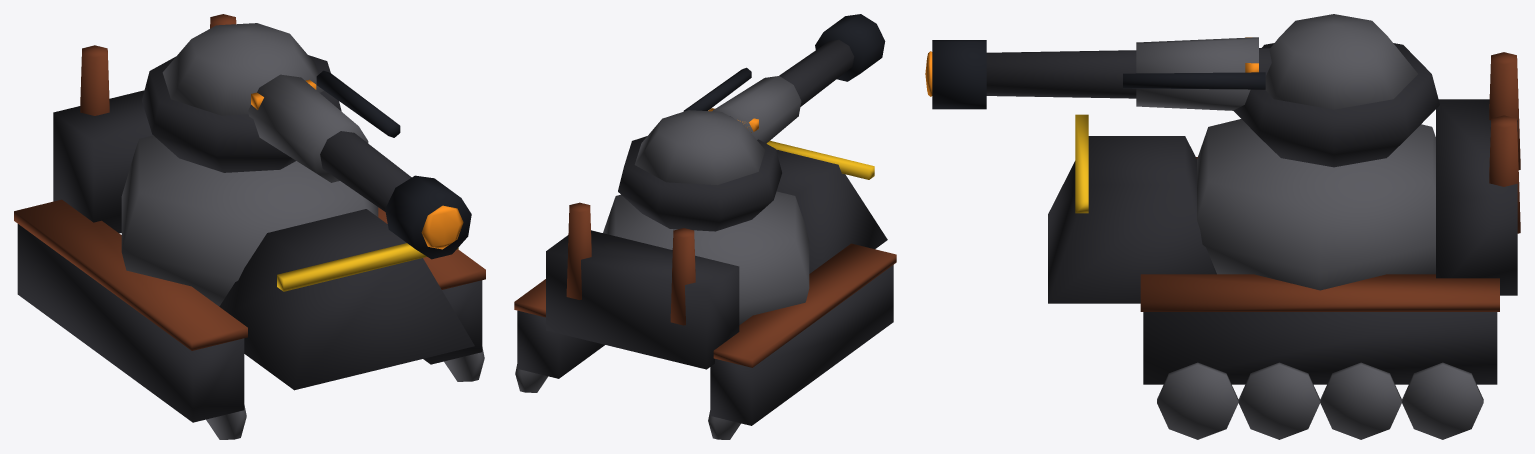
Rendered from unit_mecha_siege.obj.
The picture shows the model from 3 angles, left to right: view 1: azimuth 30°, elevation 25°; view 2: azimuth 150°, elevation 25°; view 3: azimuth 270°, elevation 25°; orthographic projection. The views are drawn at different scales.
Parts seen in each view (by area): view 1: HullNose, Hull, Track_-1, TrackTrim_-1, TurretBody, HullRear, TurretBase, CannonSleeve, MuzzleBrake, MainCannon, HazardStripe, Track_1 (+6 smaller); view 2: HullRear, Hull, Track_-1, TurretBase, TurretBody, TrackTrim_-1, HullNose, Track_1, CannonSleeve, MainCannon, MuzzleBrake, Exhaust_-1 (+6 smaller); view 3: Hull, Track_1, HullNose, HullRear, TrackTrim_1, TurretBody, TurretBase, MainCannon, CannonSleeve, Wheel_1_1, Wheel_1_0, Wheel_1_2 (+6 smaller).
Part boxes in pixels (x1,y1,x2,y2): HullNose: [219, 209, 474, 390]; Hull: [121, 135, 378, 306]; Track_-1: [17, 224, 244, 422]; TrackTrim_-1: [14, 199, 247, 350]; TurretBody: [162, 23, 323, 115]; HullRear: [53, 90, 152, 233]; TurretBase: [142, 55, 341, 172]; CannonSleeve: [248, 74, 368, 182]; MuzzleBrake: [385, 175, 471, 259]; MainCannon: [320, 131, 411, 211]; HazardStripe: [277, 243, 458, 291]; Track_1: [423, 280, 482, 364]; HullRear: [546, 230, 739, 369]; Hull: [603, 191, 809, 324]; Track_-1: [710, 265, 893, 425]; TurretBase: [618, 136, 781, 231]; TurretBody: [634, 110, 765, 185]; TrackTrim_-1: [713, 243, 896, 367]; HullNose: [776, 149, 887, 273]; Track_1: [517, 310, 604, 378]; CannonSleeve: [712, 76, 801, 143]; MainCannon: [730, 39, 854, 117]; MuzzleBrake: [815, 14, 885, 81]; Exhaust_-1: [670, 228, 695, 325]; Hull: [1197, 119, 1435, 290]; Track_1: [1143, 312, 1497, 384]; HullNose: [1048, 136, 1216, 303]; HullRear: [1436, 99, 1517, 295]; TrackTrim_1: [1140, 274, 1499, 311]; TurretBody: [1265, 14, 1417, 109]; TurretBase: [1233, 43, 1439, 167]; MainCannon: [986, 48, 1271, 98]; CannonSleeve: [1136, 37, 1258, 110]; Wheel_1_1: [1238, 362, 1320, 439]; Wheel_1_0: [1157, 362, 1238, 439]; Wheel_1_2: [1320, 362, 1401, 439].
Bounding box in the file's own units: 2.58 × 2.75 × 4.37.
